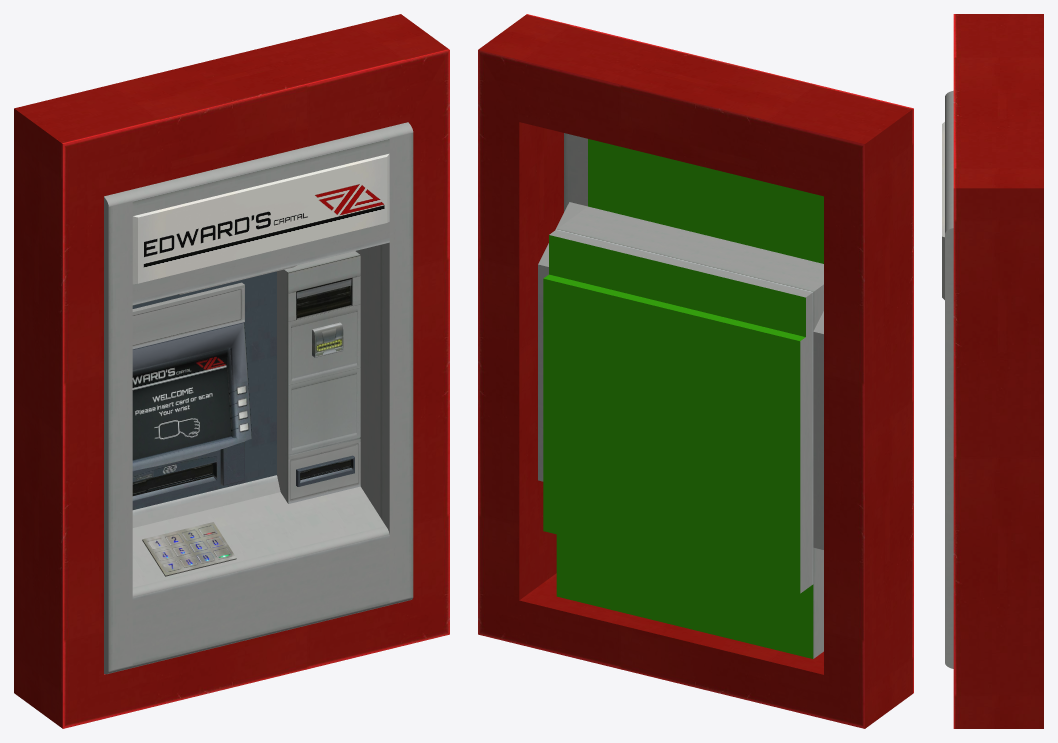
File: XNRP_ATM.fbx
3 views of the same model, side by side, from view 1: azimuth 30°, elevation 25°; view 2: azimuth 150°, elevation 25°; view 3: azimuth 270°, elevation 25° (orthographic). The views are drawn at different scales.
Parts seen in each view (by area): view 1: Group2, Group20, Group16, Group22, Group10, Group17, Group13, Group21, Group4, Group9, Group7, Group25 (+6 smaller); view 2: Group2, Group4, Group23, Group20, Group21, Group12, Group9, Group10; view 3: Group2, Group10, Group21, Group16.
Part boxes in pixels (x1=…): Group2: x1=14, y1=14, x2=449, y2=728; Group20: x1=131, y1=486, x2=389, y2=668; Group16: x1=132, y1=153, x2=389, y2=284; Group22: x1=277, y1=251, x2=360, y2=456; Group10: x1=380, y1=122, x2=413, y2=605; Group17: x1=132, y1=322, x2=251, y2=470; Group13: x1=104, y1=190, x2=132, y2=674; Group21: x1=128, y1=128, x2=389, y2=304; Group4: x1=132, y1=271, x2=276, y2=509; Group9: x1=355, y1=245, x2=380, y2=517; Group7: x1=132, y1=282, x2=244, y2=349; Group25: x1=142, y1=522, x2=236, y2=576; Group2: x1=478, y1=14, x2=913, y2=728; Group4: x1=543, y1=274, x2=813, y2=593; Group23: x1=549, y1=206, x2=823, y2=336; Group20: x1=556, y1=534, x2=823, y2=658; Group21: x1=588, y1=139, x2=823, y2=263; Group12: x1=813, y1=311, x2=823, y2=549; Group9: x1=538, y1=202, x2=587, y2=481; Group10: x1=564, y1=133, x2=587, y2=211; Group2: x1=953, y1=14, x2=1043, y2=728; Group10: x1=945, y1=217, x2=953, y2=668; Group21: x1=945, y1=101, x2=953, y2=222; Group16: x1=942, y1=122, x2=944, y2=299.
Bounding box in the file's own units: 0.855 × 1.23 × 0.2112.
13 materials, 11 textured.
